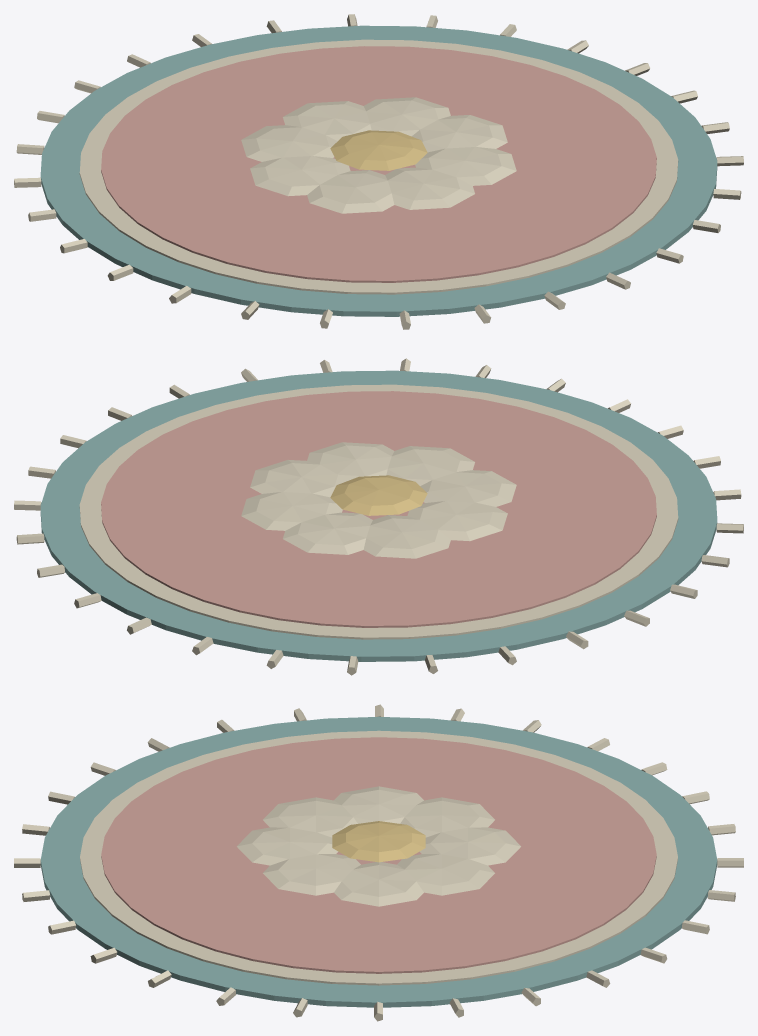
Rendered from rug.glb.
3 views of the same model, one above another, from view 1: azimuth 30°, elevation 25°; view 2: azimuth 150°, elevation 25°; view 3: azimuth 270°, elevation 25° (orthographic).
Parts seen in each view (by area): view 1: rug; view 2: rug; view 3: rug.
Boxes of the visible parts, left/top/right/bottom form: rug: left=14, top=14, right=743, bottom=329; rug: left=14, top=358, right=743, bottom=675; rug: left=14, top=704, right=743, bottom=1021.
Size of the model in its own units: 2.05 by 0.098 by 2.05.
